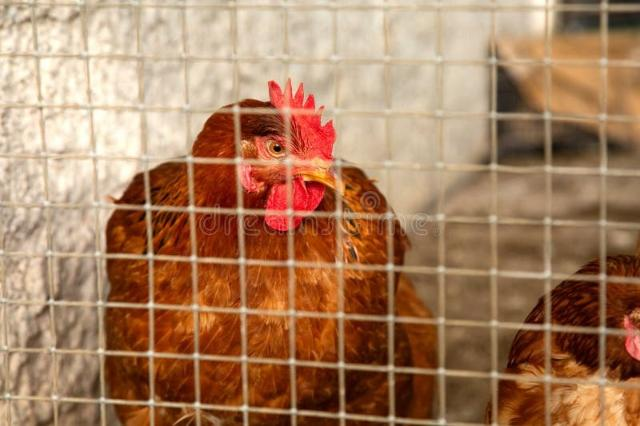Chicken: (104, 77, 440, 426), (486, 252, 640, 426)
